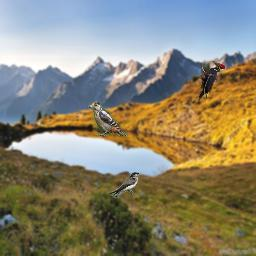Swallow: (108, 172, 139, 198)
Woodpecker: (88, 101, 128, 136), (198, 61, 226, 101)
